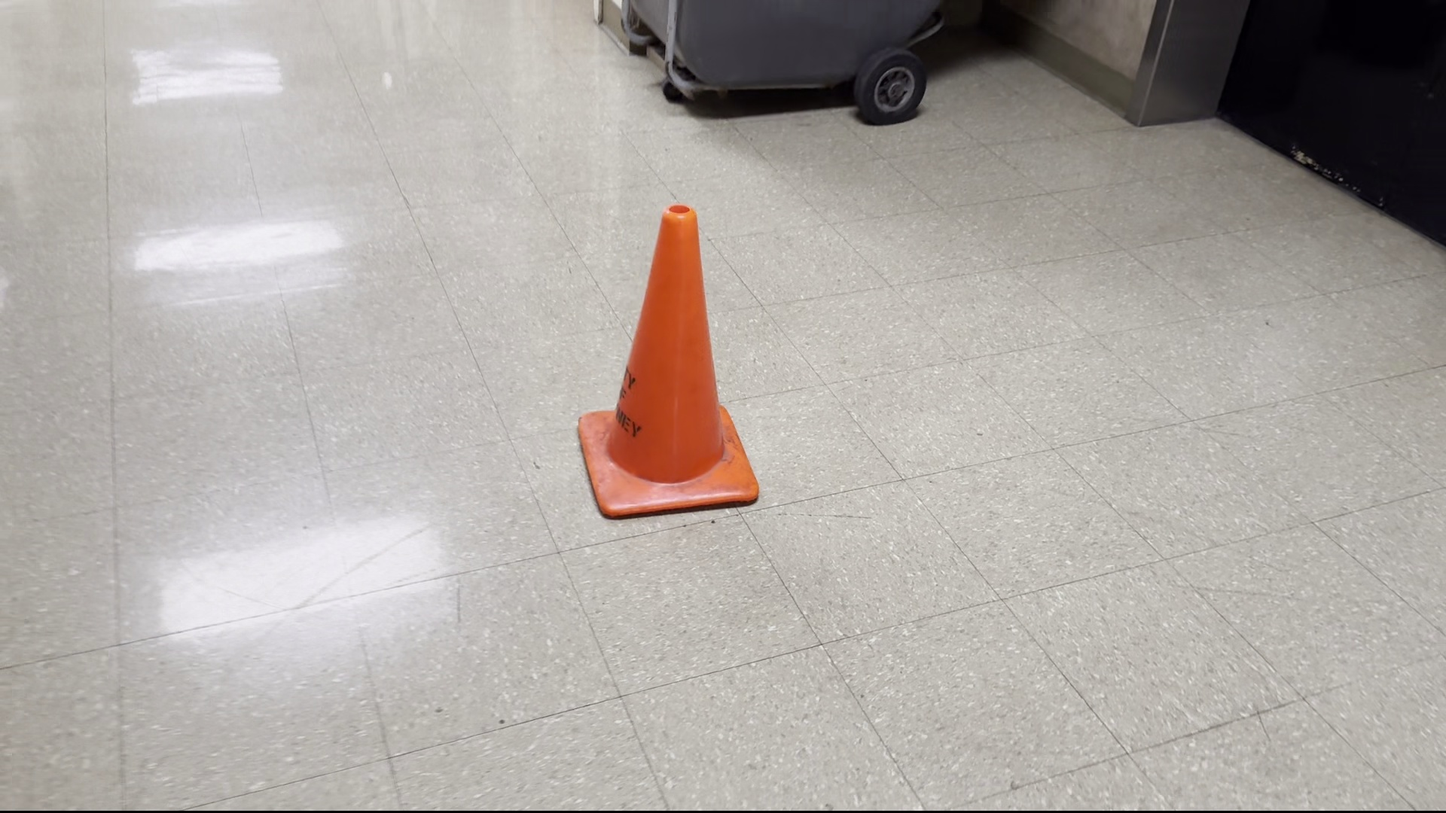traffic_cone: (576, 203, 760, 519)
